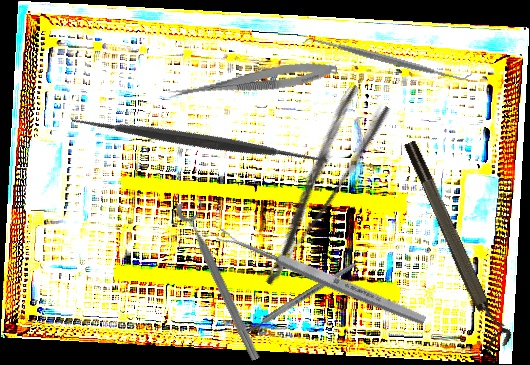Dressing Forceps: (232, 82, 395, 289)
Fixation Ring: (400, 135, 515, 353), (174, 194, 273, 364)
Micro Scissor: (167, 56, 339, 109)
Scalpel Handle: (242, 261, 357, 337)
Spatula Surgical: (64, 8, 327, 271), (302, 28, 473, 90)
Surgical Spoon: (215, 226, 428, 328)
